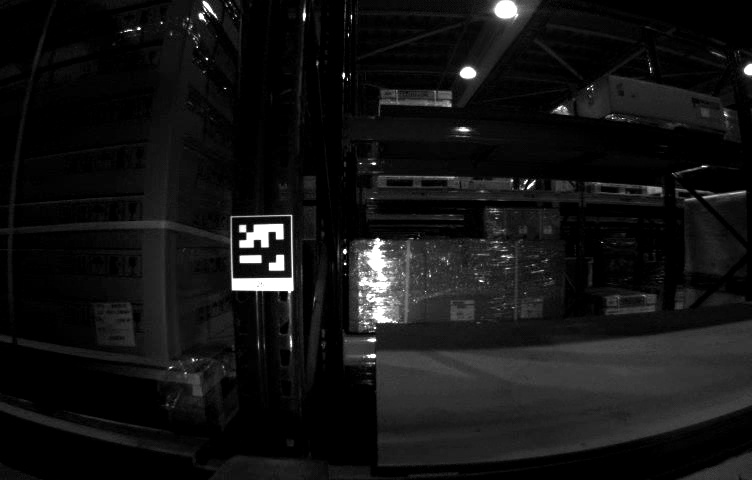True Barcode: (93, 302, 135, 349)
